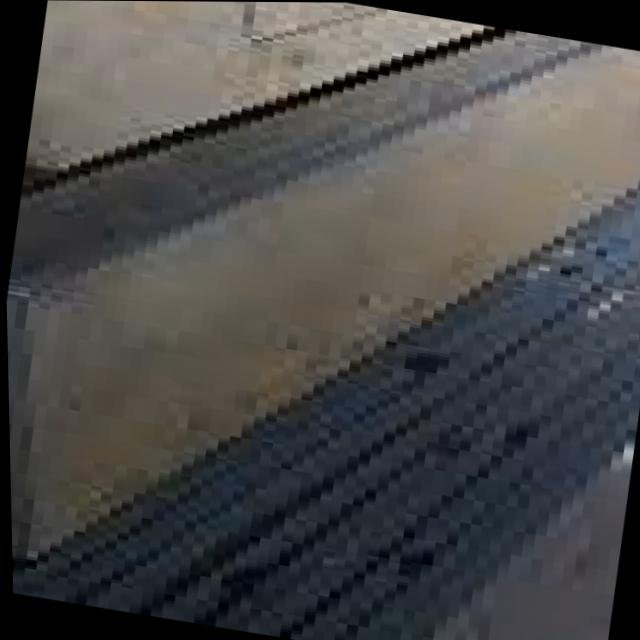metal-plates: (11, 221, 640, 640)
